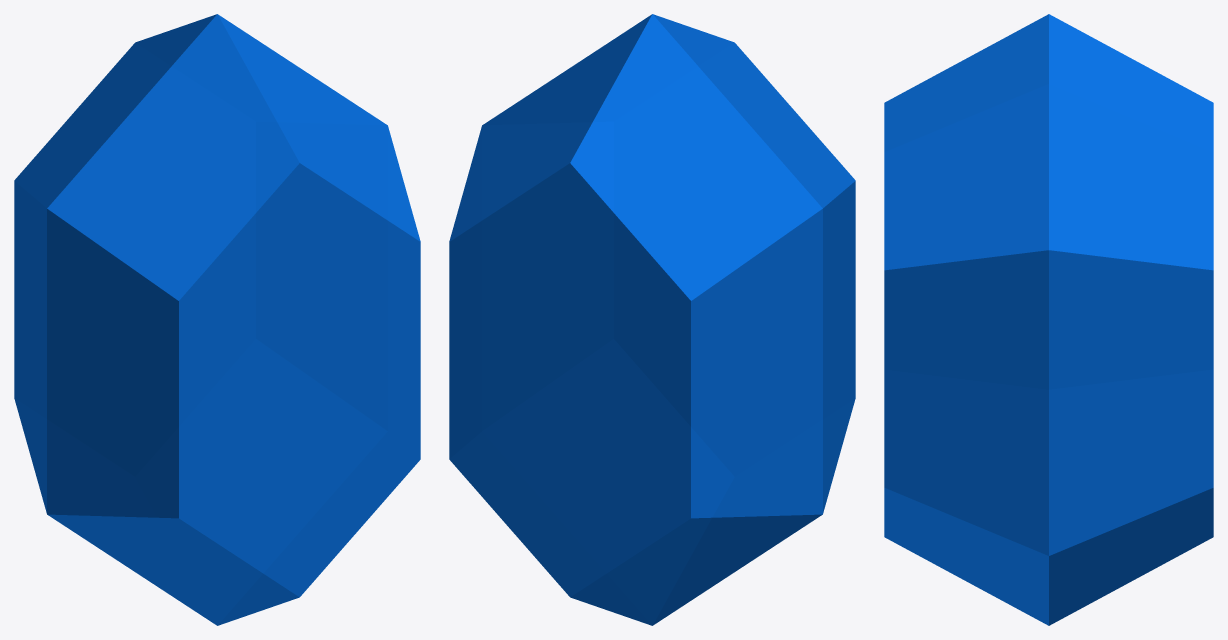
File: sm_jewel_2.fbx
3 renders of one model, left to right at view 1: azimuth 30°, elevation 25°; view 2: azimuth 150°, elevation 25°; view 3: azimuth 270°, elevation 25°, orthographic.
Visible parts, largest first — view 1: pCylinder1; view 2: pCylinder1; view 3: pCylinder1.
Boxes of the visible parts, box(x1,y1,x2,y2) form: pCylinder1: box(14, 14, 420, 625); pCylinder1: box(449, 14, 855, 625); pCylinder1: box(884, 14, 1213, 625).
Bounding box in the file's own units: 164 × 282 × 137.
